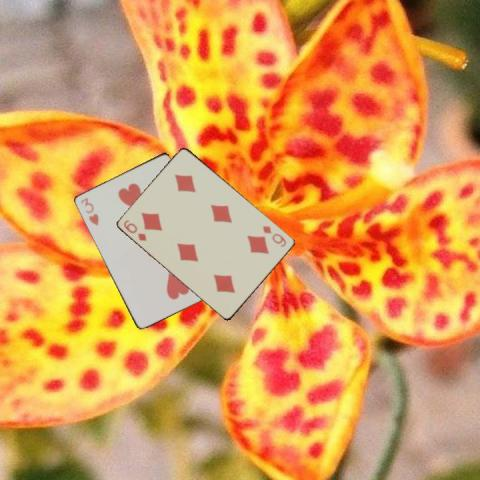3h: (77, 194, 100, 226)
6d: (121, 216, 148, 243), (259, 223, 288, 248)
